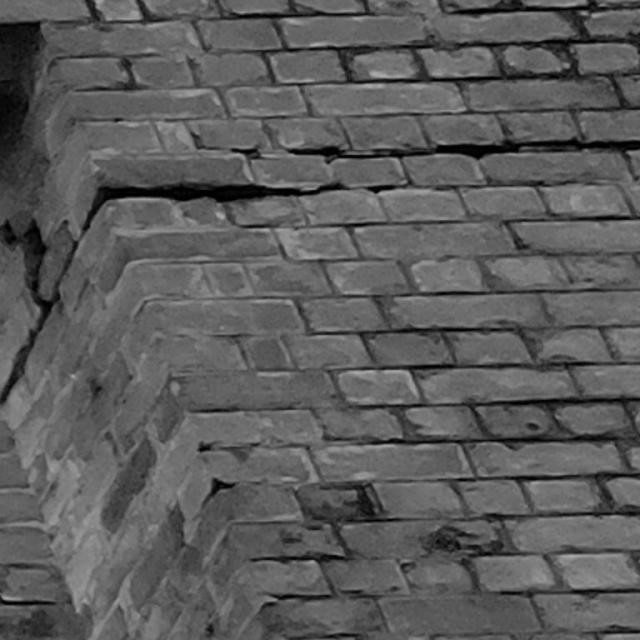crack: (1, 181, 410, 406), (229, 138, 639, 164)
